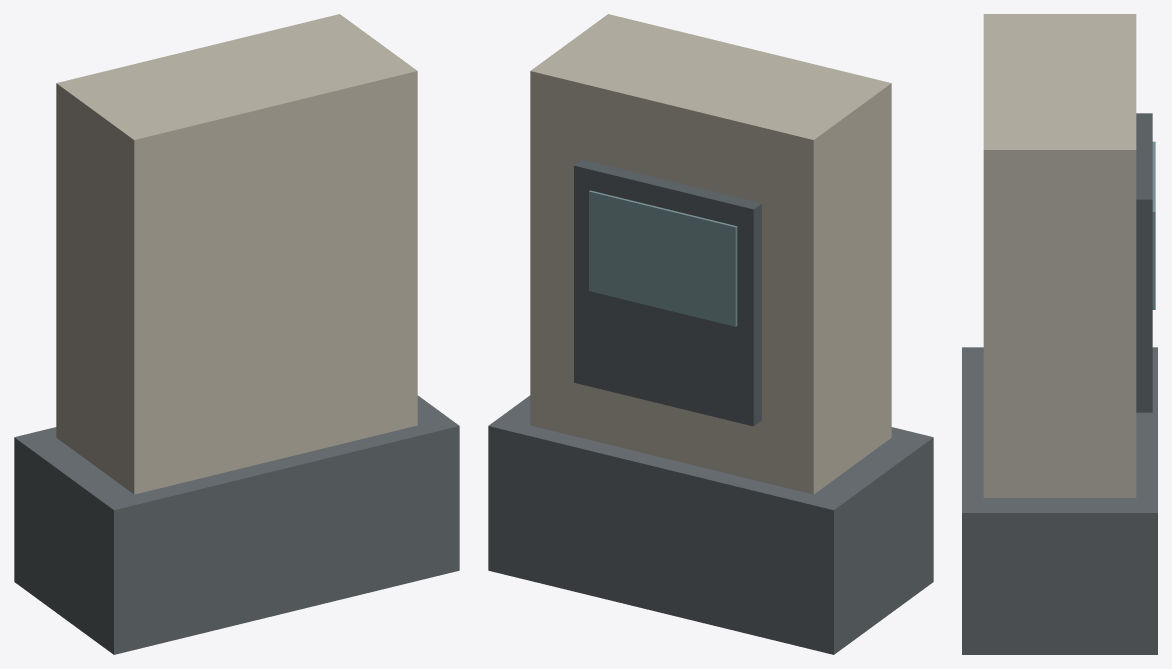
The model's file is iz3_production_distribution_01.glb.
3 renders of one model, left to right at view 1: azimuth 30°, elevation 25°; view 2: azimuth 150°, elevation 25°; view 3: azimuth 270°, elevation 25°, orthographic.
Parts seen in each view (by area): view 1: cabinet, base; view 2: cabinet, base, panel, display; view 3: cabinet, base, panel, display.
Boxes of the visible parts, box(x1,y1,x2,y2) form: cabinet: box(56, 14, 417, 494); base: box(14, 395, 459, 654); cabinet: box(530, 14, 891, 494); base: box(488, 395, 933, 654); panel: box(574, 159, 761, 426); display: box(589, 190, 737, 326); cabinet: box(983, 14, 1136, 497); base: box(962, 347, 1157, 654); panel: box(1136, 113, 1152, 412); display: box(1152, 141, 1155, 309).
Size of the model in its own units: 0.8 by 1.1 by 0.4.
